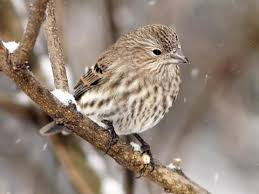hsparrow: (34, 23, 197, 163)
